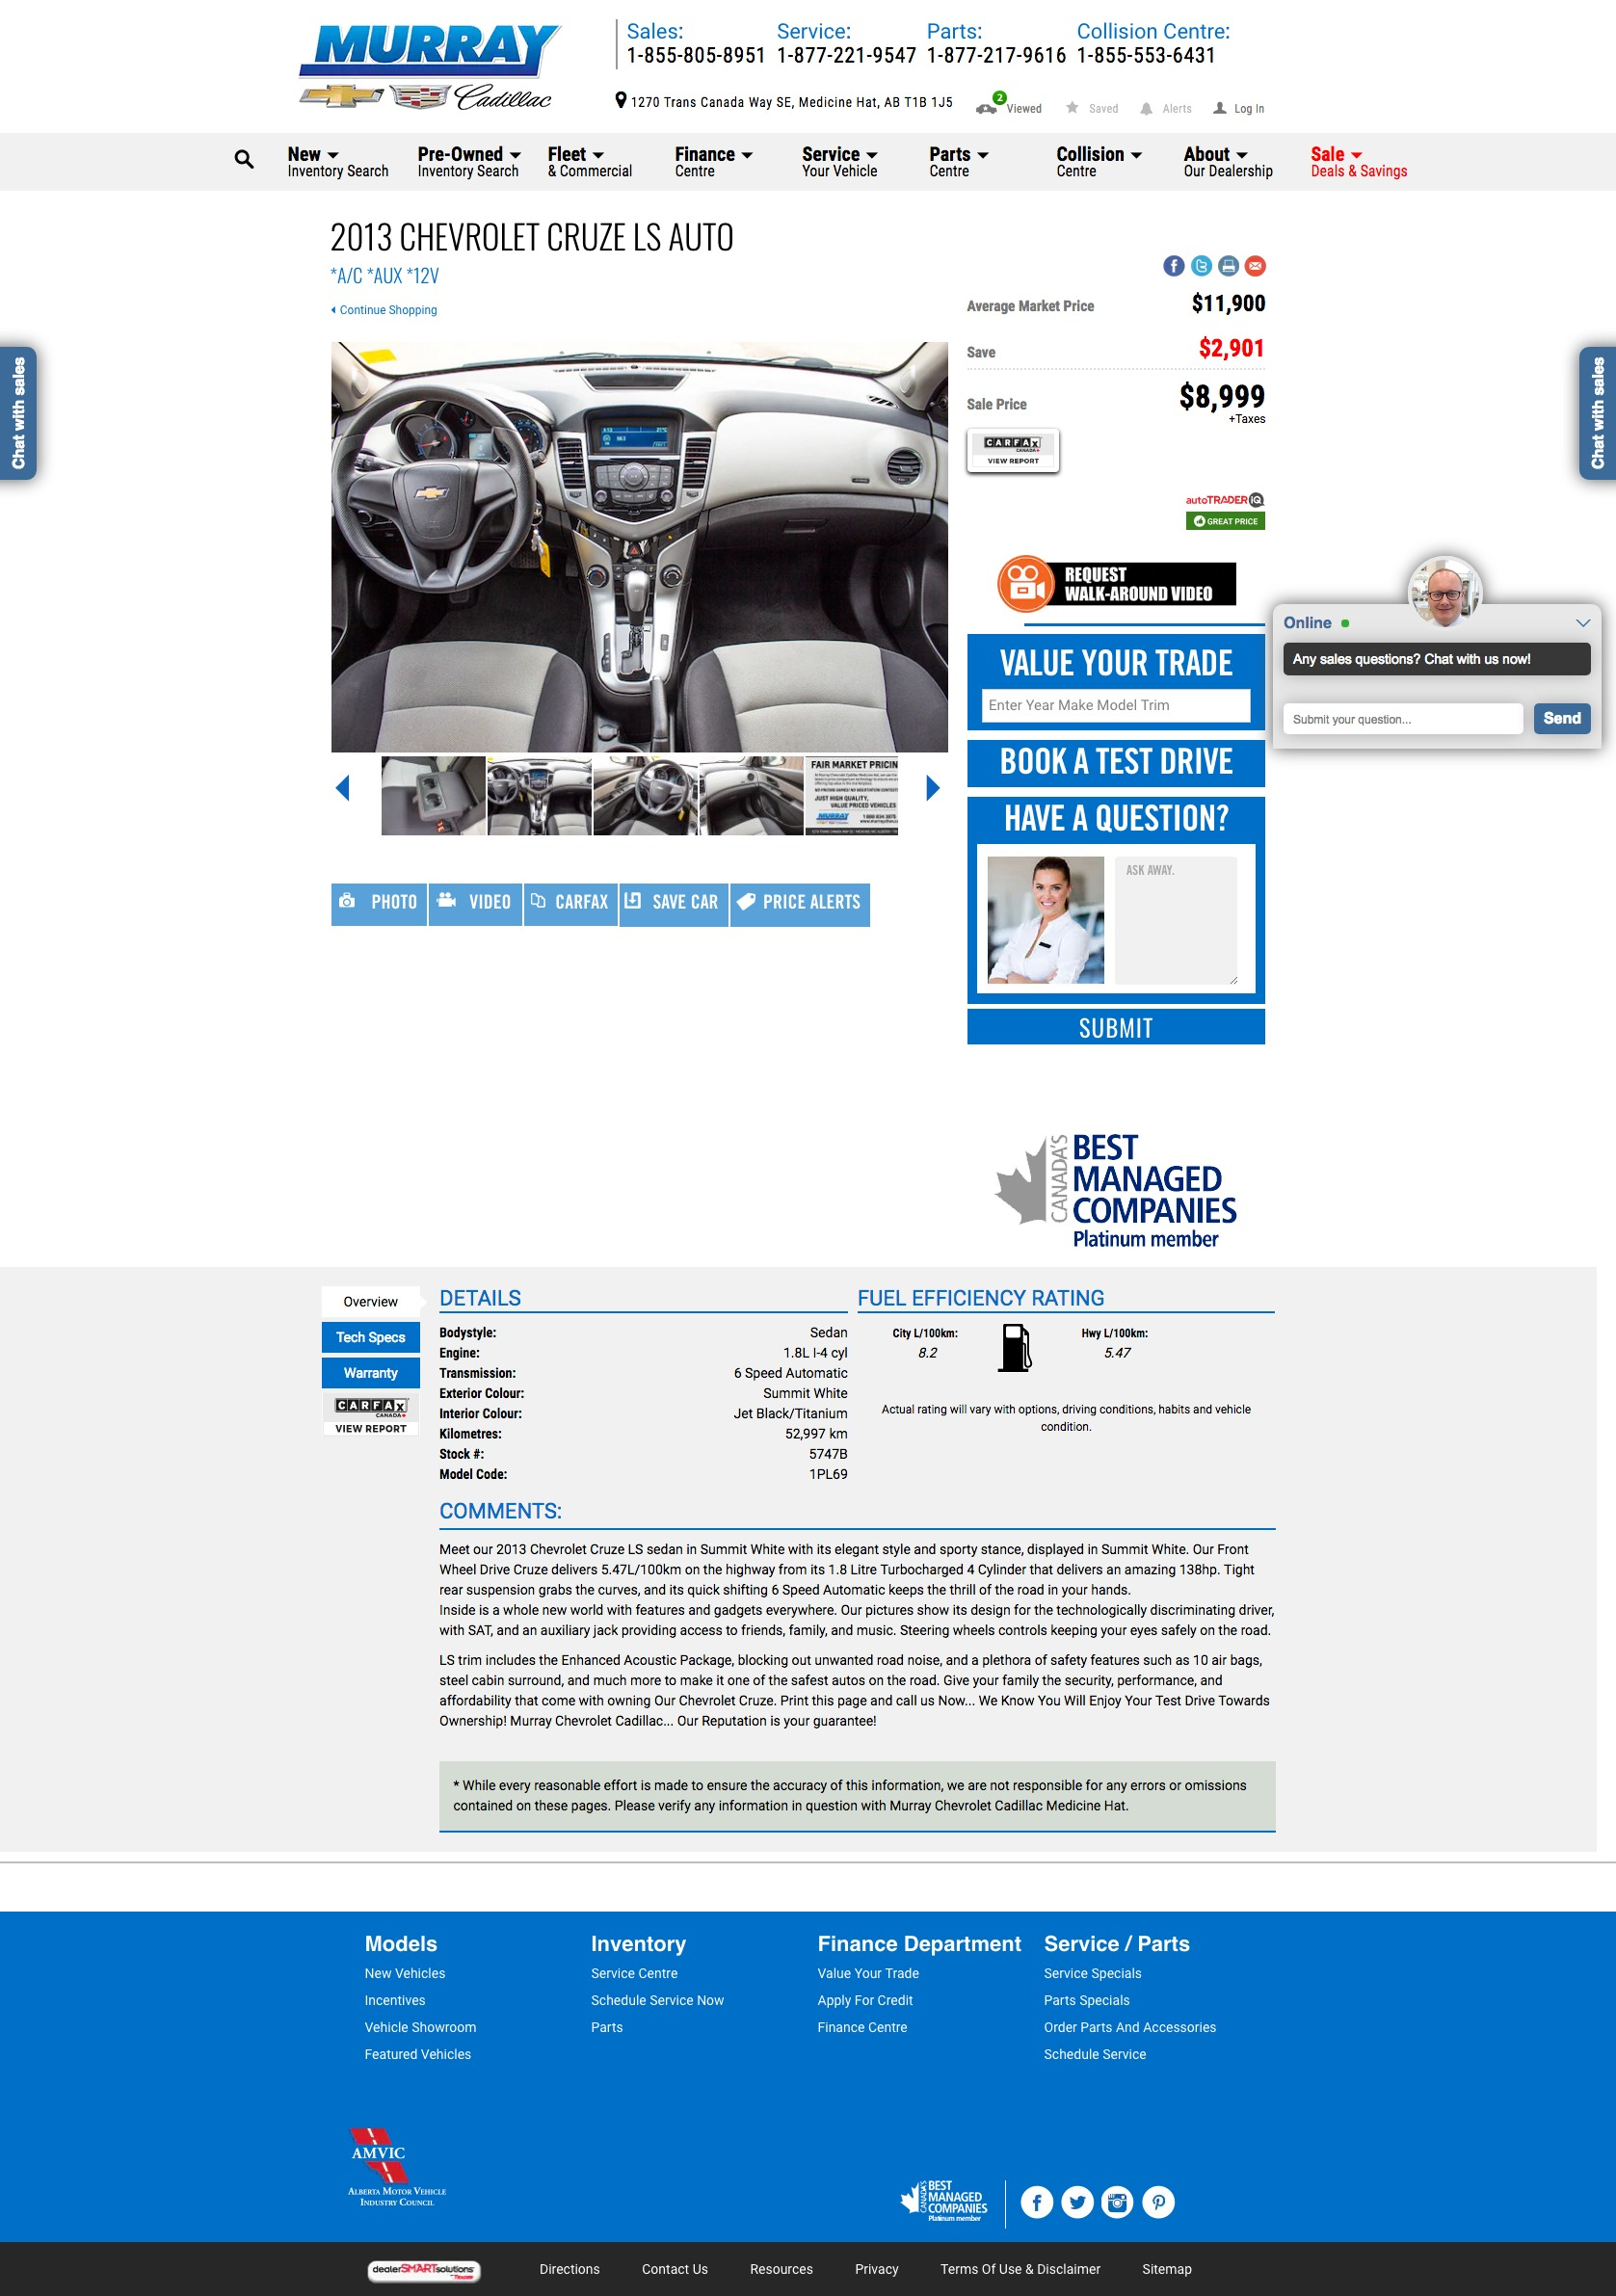car: (925, 773, 943, 804)
